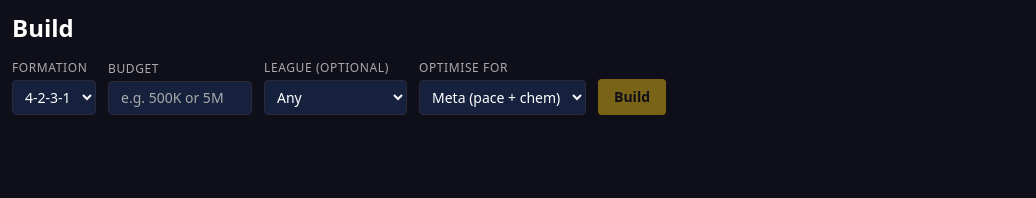
it: shows error when build fails
The width and height of the screenshot is (1036, 198).
Type "1K" into the field labelled "Budget" at [180, 98], box [108,81,252,115]
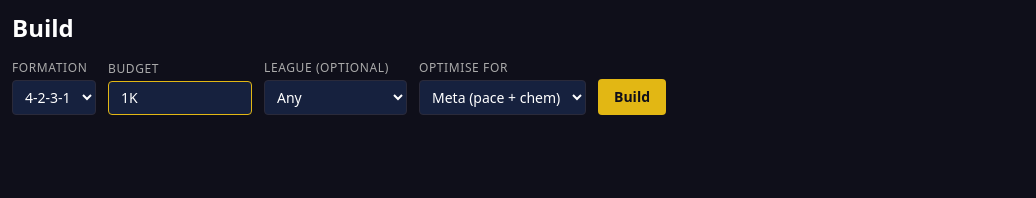
Click the button "Build" at [632, 97], box [598,79,666,115]
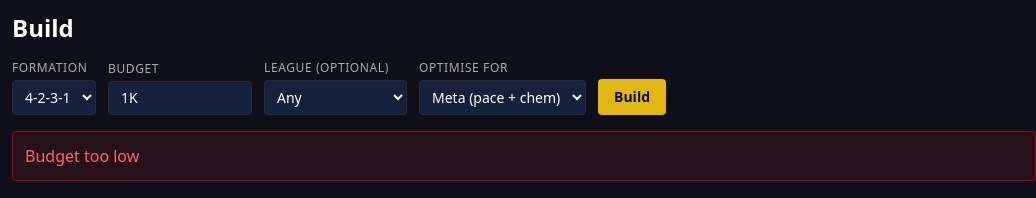
Check: the text "Budget too low" is shown, box [12,131,1035,181]
